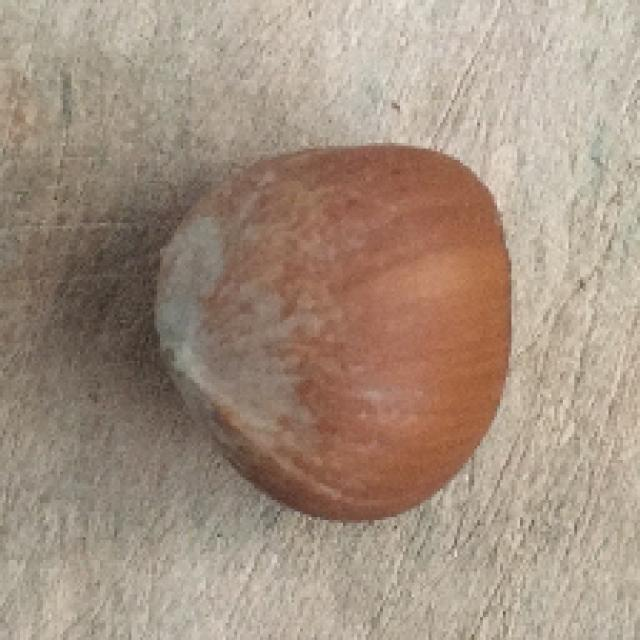qualityHazelnut: (154, 141, 514, 522)
